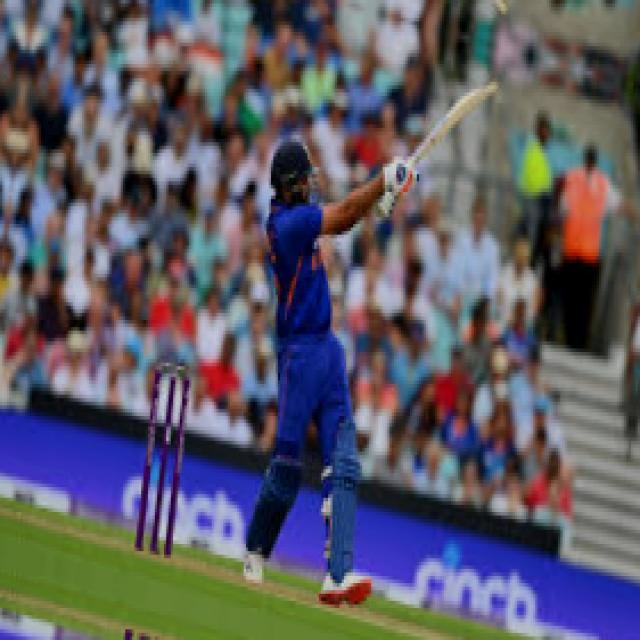toe: (478, 81, 497, 101)
